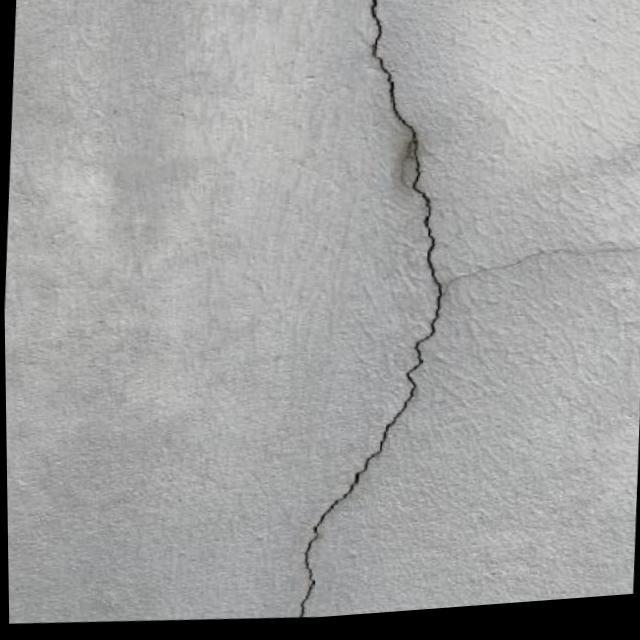Crack: (292, 3, 467, 601)
